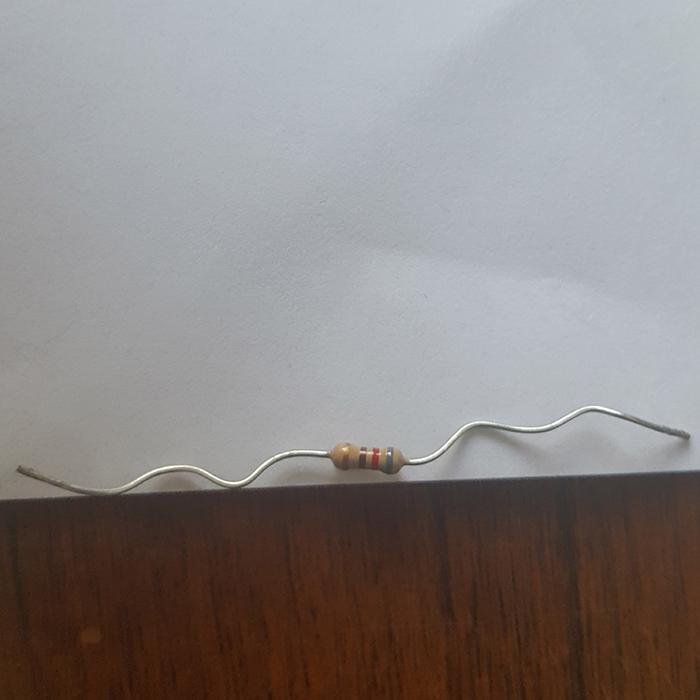resistor: (329, 441, 404, 473)
